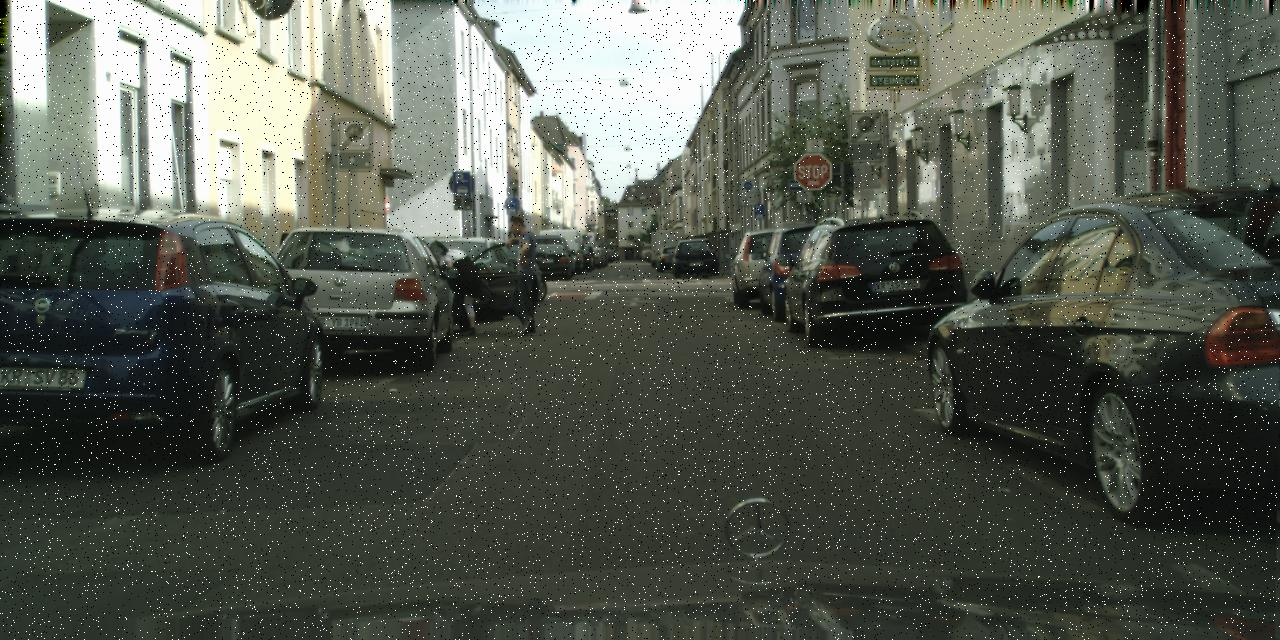ped: (498, 216, 544, 332), (434, 240, 472, 333)
